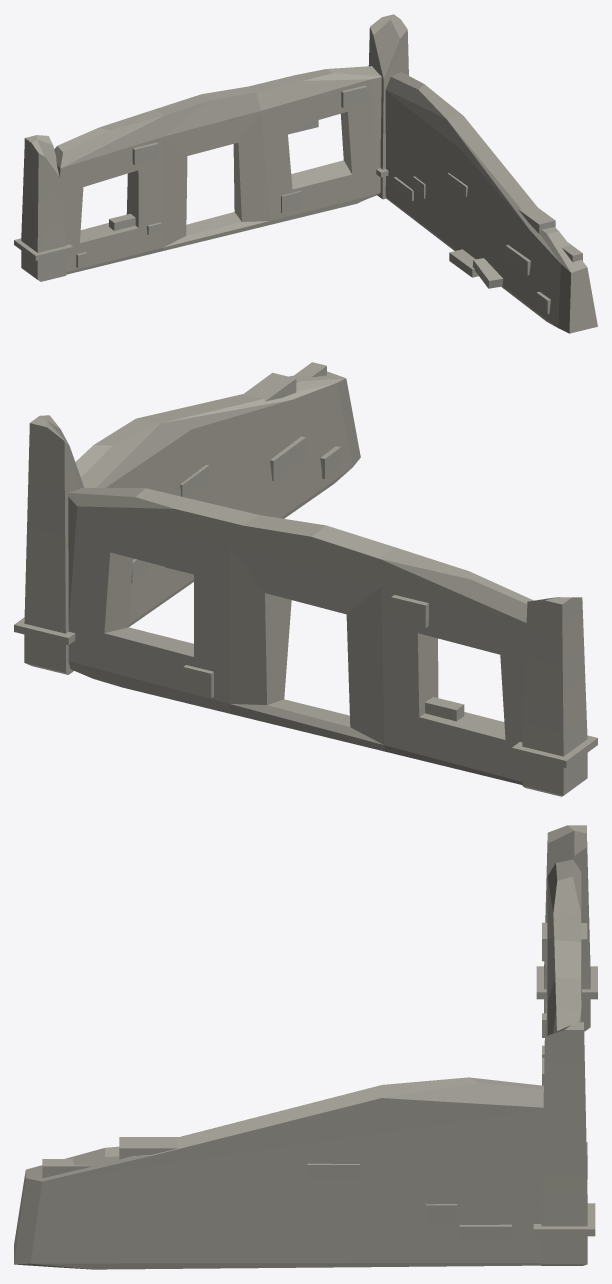
The model's file is Stone_Ruins_Wall.fbx.
3 views of the same model, one above another, from view 1: azimuth 30°, elevation 25°; view 2: azimuth 150°, elevation 25°; view 3: azimuth 270°, elevation 25° (orthographic). The views are drawn at different scales.
Parts seen in each view (by area): view 1: Stone_Ruins_wall; view 2: Stone_Ruins_wall; view 3: Stone_Ruins_wall.
Boxes of the visible parts, box(x1,y1,x2,y2) form: Stone_Ruins_wall: box(14, 14, 597, 333); Stone_Ruins_wall: box(14, 362, 597, 796); Stone_Ruins_wall: box(14, 825, 597, 1269).
Size of the model in its own units: 794 by 746 by 333.
